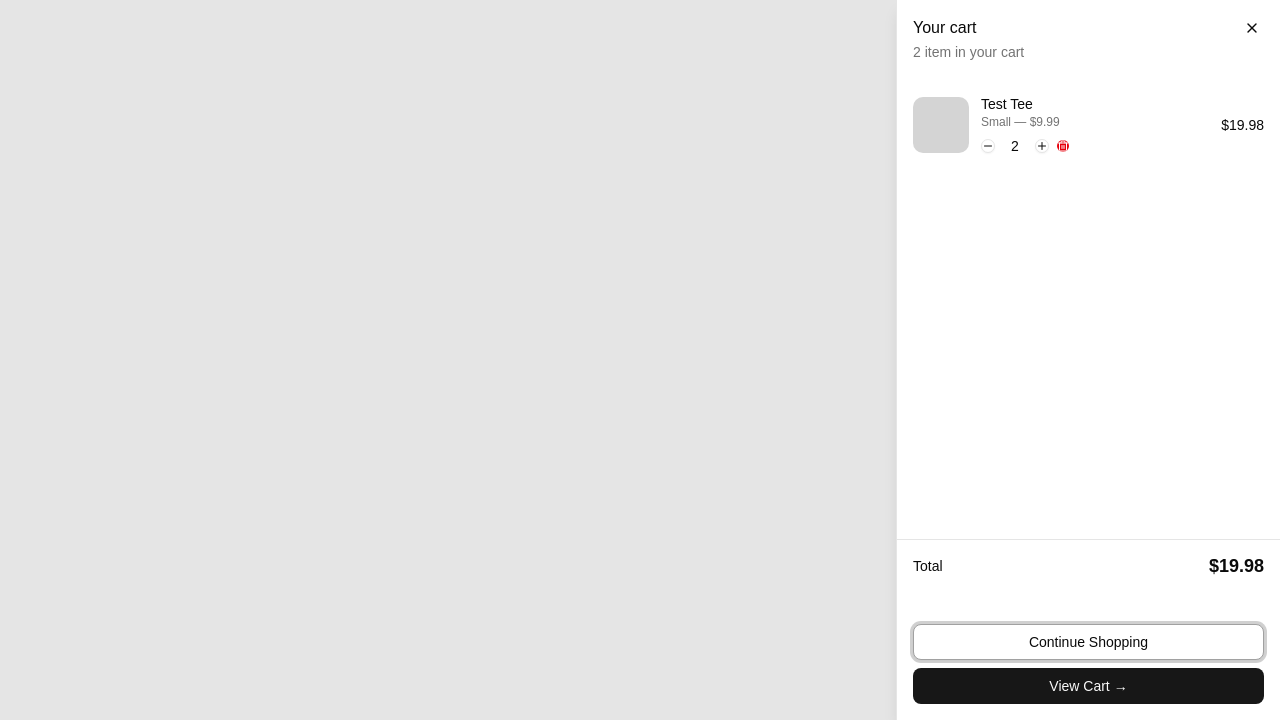
CartSheet › updates quantity from the stepper
This screenshot has width=1280, height=720.
Click the button named "Increase quantity of Test Tee" at (1042, 146), box [1035,139,1049,153]
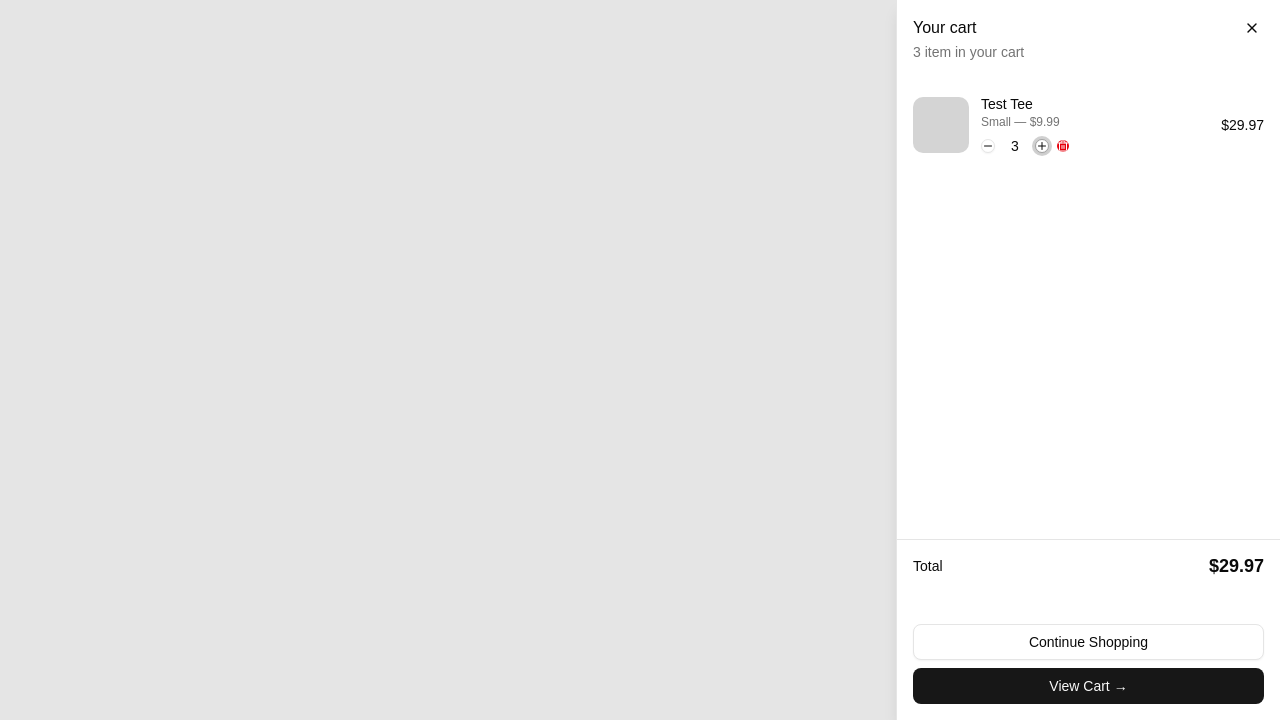
Expected: the text "3" is shown, [1011,138,1019,154]
